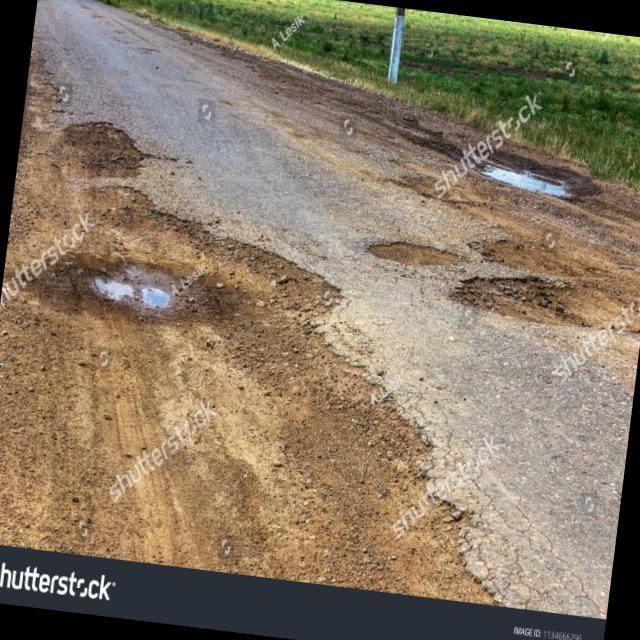Pothole: (93, 254, 193, 320), (451, 270, 568, 323), (65, 122, 147, 177), (464, 161, 565, 202), (372, 242, 465, 264), (453, 195, 503, 229), (479, 235, 519, 266), (495, 189, 515, 215)
